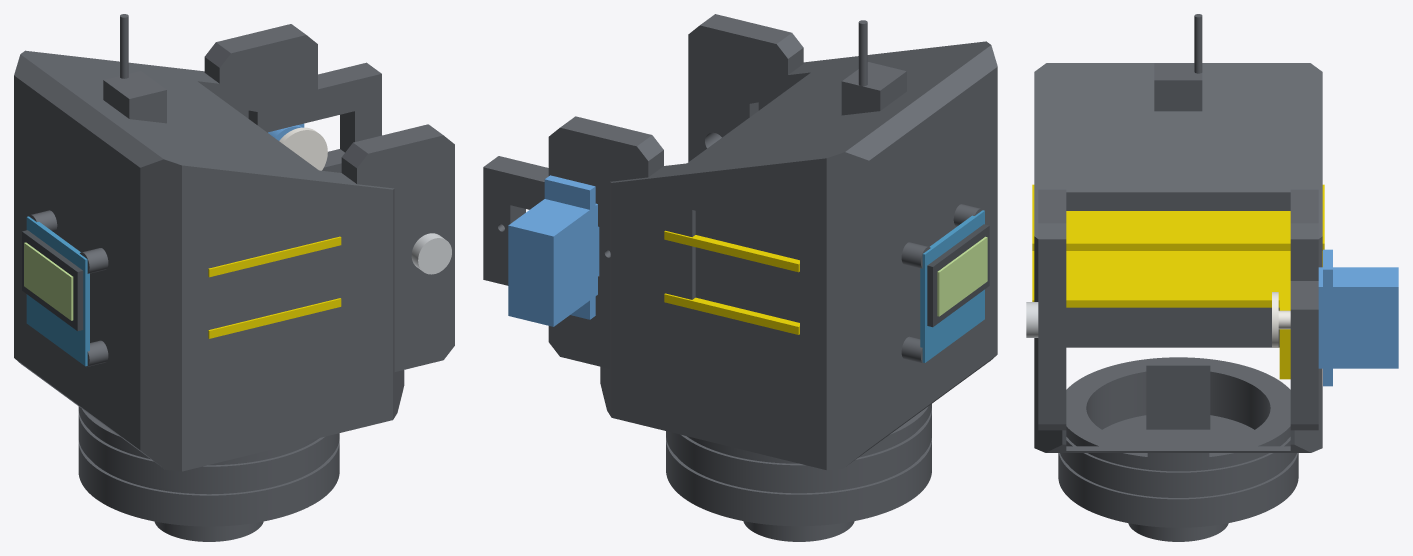
Rendered from fase2_cuerpo.glb.
The picture shows the model from 3 angles, left to right: view 1: azimuth 30°, elevation 25°; view 2: azimuth 150°, elevation 25°; view 3: azimuth 270°, elevation 25°; orthographic projection. The views are drawn at different scales.
Visible parts, largest first — view 1: =>[0:1:1:4], =>[0:1:1:24], =>[0:1:1:28], =>[0:1:1:26], =>[0:1:1:22], =>[0:1:1:6], =>[0:1:1:8], =>[0:1:1:20]; view 2: =>[0:1:1:4], =>[0:1:1:12], =>[0:1:1:24], =>[0:1:1:28], =>[0:1:1:26], =>[0:1:1:6], =>[0:1:1:8], =>[0:1:1:14]; view 3: =>[0:1:1:4], =>[0:1:1:6], =>[0:1:1:8], =>[0:1:1:12], =>[0:1:1:10], =>[0:1:1:14], =>[0:1:1:22].
Boxes of the visible parts, x1,y1,x2,y2 form: =>[0:1:1:4]: (14,14,454,541); =>[0:1:1:24]: (26,216,89,366); =>[0:1:1:28]: (24,242,73,320); =>[0:1:1:26]: (22,230,83,331); =>[0:1:1:22]: (411,233,451,274); =>[0:1:1:6]: (208,298,341,338); =>[0:1:1:8]: (208,236,341,277); =>[0:1:1:20]: (279,127,327,170); =>[0:1:1:4]: (483,14,997,541); =>[0:1:1:12]: (508,199,599,326); =>[0:1:1:24]: (920,210,984,362); =>[0:1:1:28]: (937,236,987,316); =>[0:1:1:26]: (927,224,989,327); =>[0:1:1:6]: (664,293,799,334); =>[0:1:1:8]: (664,230,799,272); =>[0:1:1:14]: (544,175,595,319); =>[0:1:1:4]: (1034,14,1322,541); =>[0:1:1:6]: (1032,251,1322,307); =>[0:1:1:8]: (1032,184,1324,250); =>[0:1:1:12]: (1318,267,1398,368); =>[0:1:1:10]: (1279,297,1290,379); =>[0:1:1:14]: (1323,249,1332,386); =>[0:1:1:22]: (1026,302,1038,337).
Bounding box in the file's own units: 0.1048 × 0.13 × 0.093.
